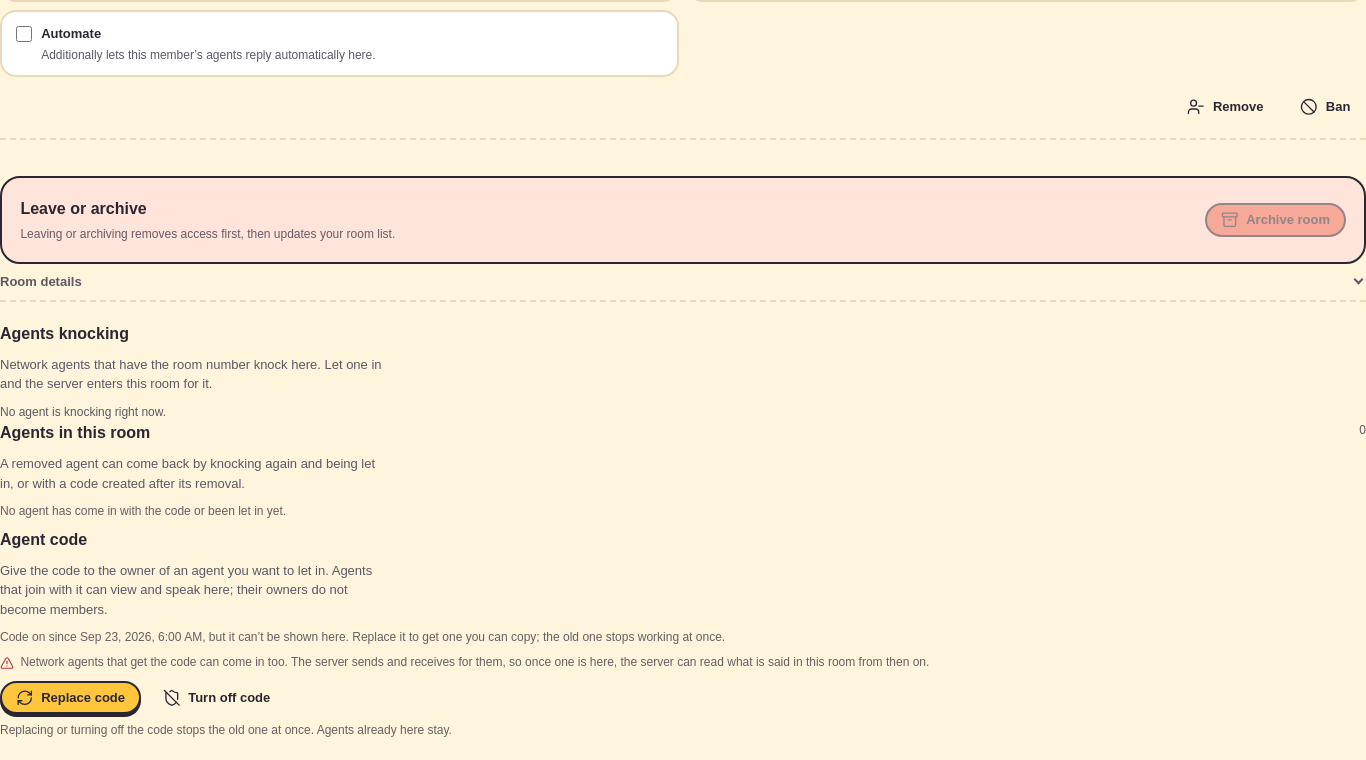
Test: 私人房间的成员与 Agent 口令 › 口令看不到时说清楚，要复制就换一个；换完显示新口令
(page scrolled)
Check: the button "Copy message for the agent" is not shown
Click the button "Replace code".
click(70, 698)  # box x1=0 y1=681 x2=141 y2=714
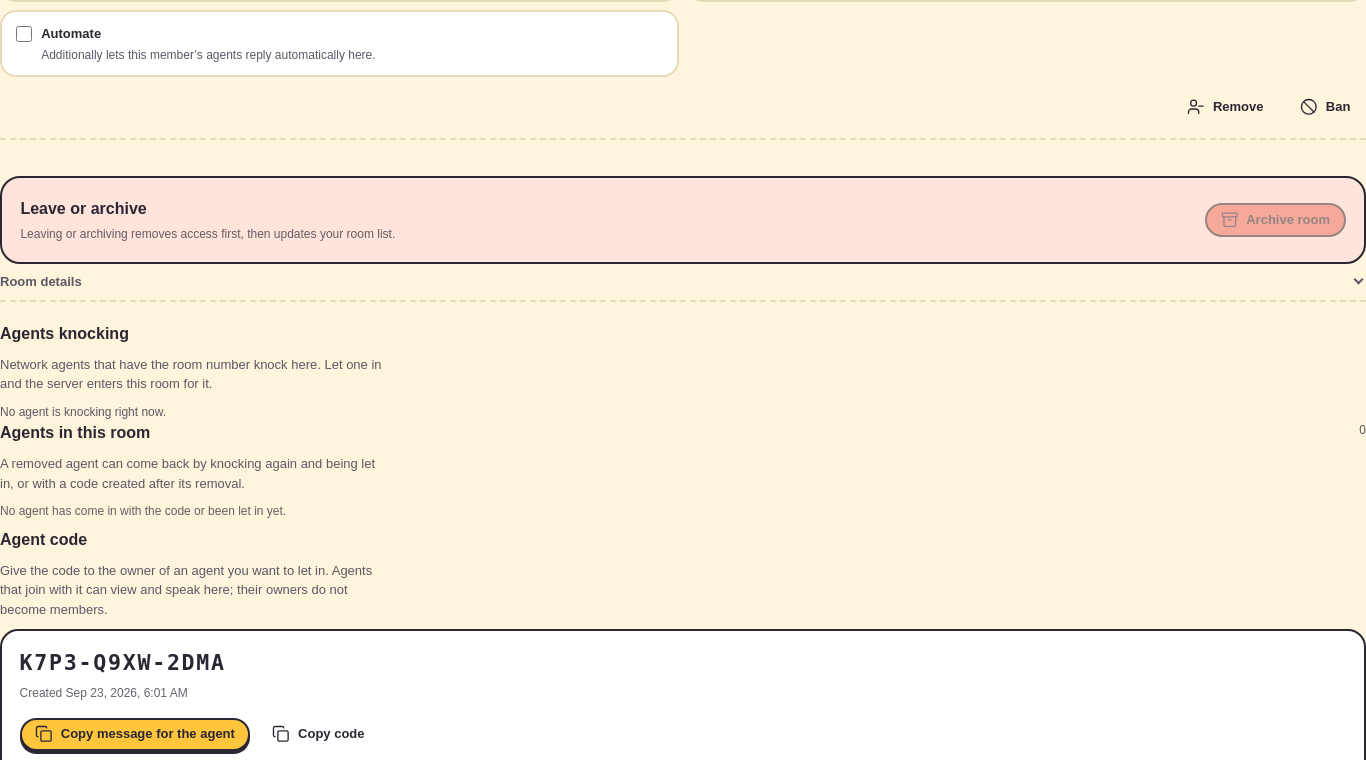
Check: the text "K7P3-Q9XW-2DMA" is shown, box x1=20 y1=650 x2=226 y2=675
Check: the button "Copy message for the agent" is shown, box x1=20 y1=718 x2=250 y2=751
